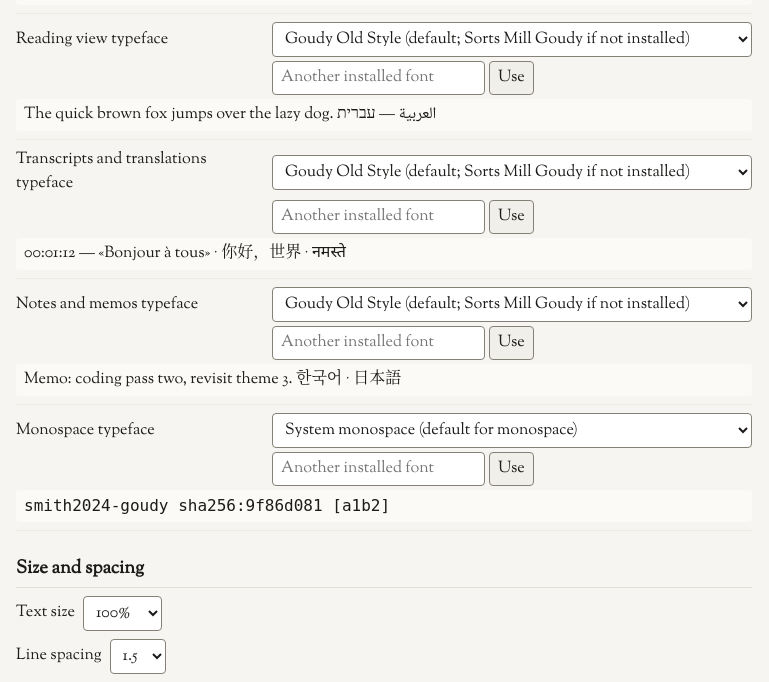
Test: Appearance settings screen › a typed font name that cannot be used shows a message and changes nothing
(page scrolled)
Type "Evil; color: red" into the field named "Installed font for Notes and memos" at [378, 343], box 272,326 -> 485,360
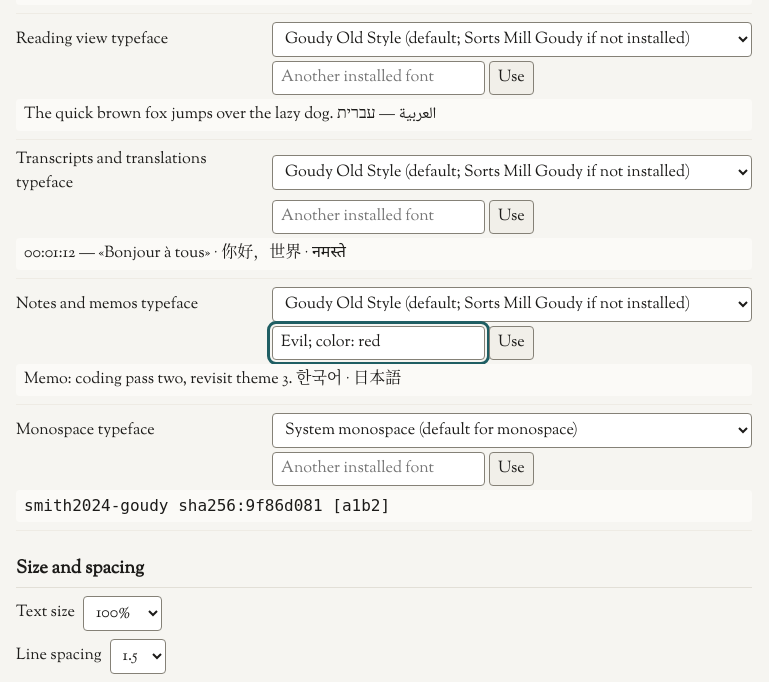
Click the button with aria-label "Use installed font for Notes and memos" at [511, 343], box 489,326 -> 534,360
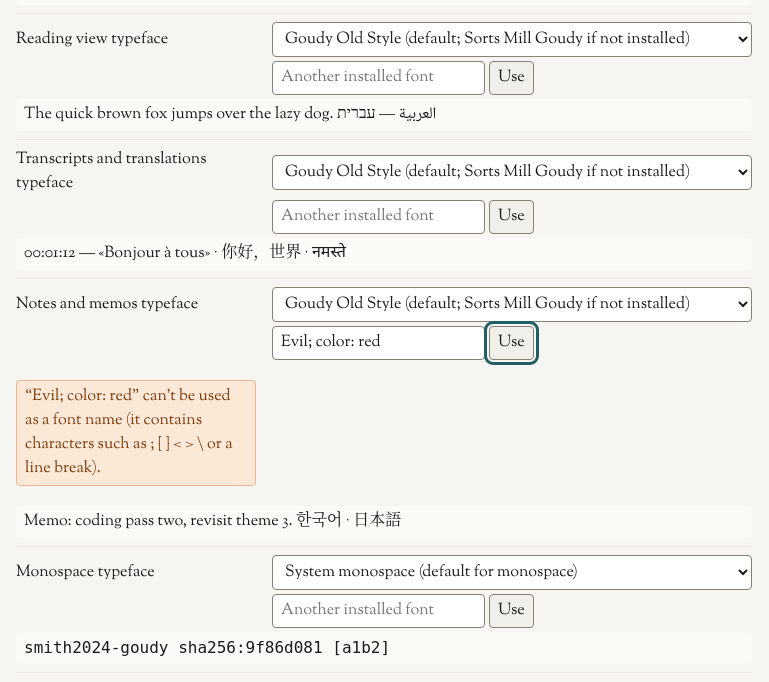
Expected: the message shows "can't be used as a font name", 25,385 -> 231,456
